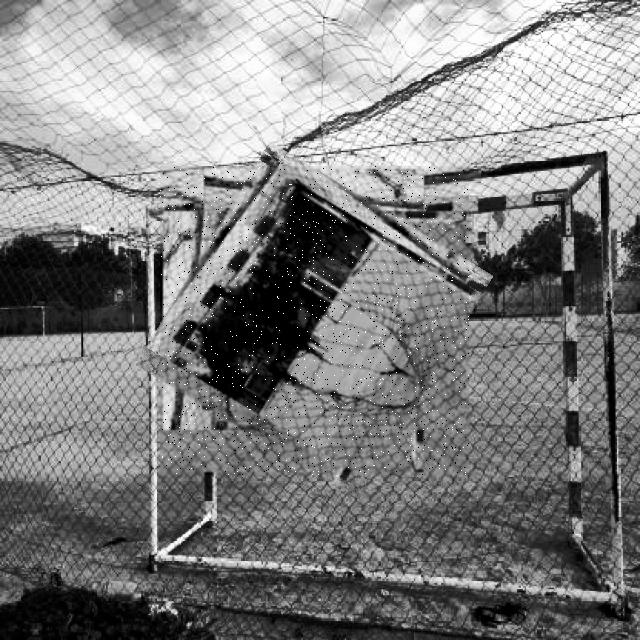anomaly-fence: (160, 166, 469, 475)
